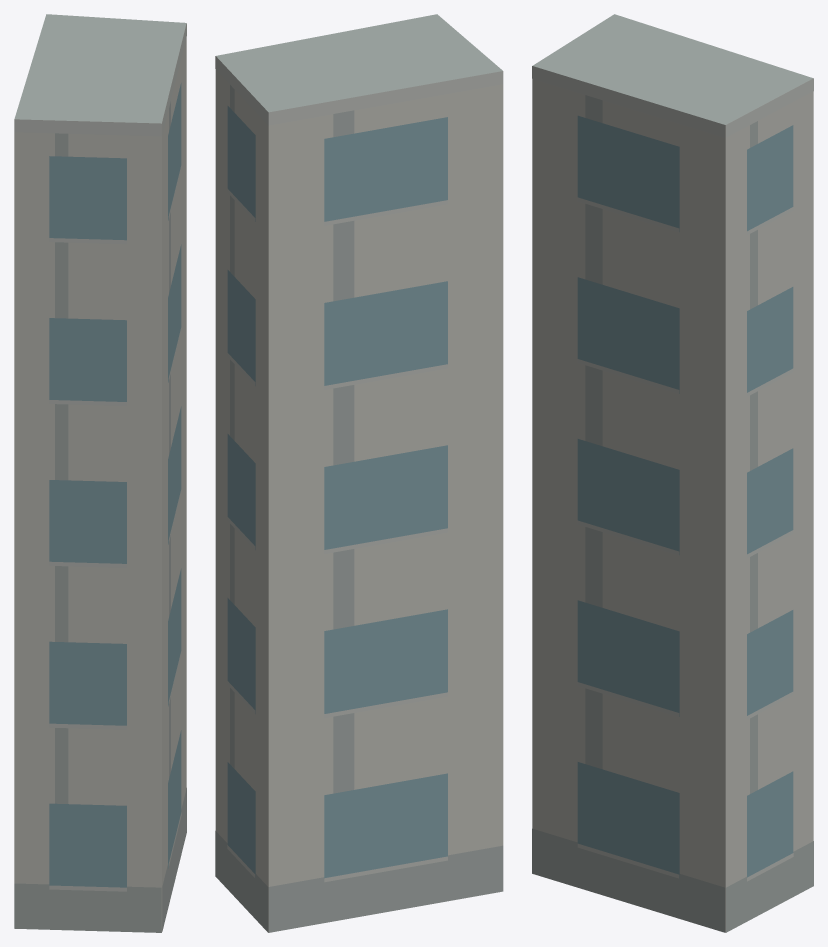
Rendered from survey-upis-32644130.glb.
The picture shows the model from 3 angles, left to right: view 1: azimuth 30°, elevation 25°; view 2: azimuth 150°, elevation 25°; view 3: azimuth 270°, elevation 25°; orthographic projection.
Visible parts, largest first — view 1: survey-upis-32644130.tmp; view 2: survey-upis-32644130.tmp; view 3: survey-upis-32644130.tmp.
Boxes of the visible parts, x1=… form: survey-upis-32644130.tmp: x1=14, y1=14, x2=186, y2=932; survey-upis-32644130.tmp: x1=215, y1=14, x2=503, y2=932; survey-upis-32644130.tmp: x1=532, y1=14, x2=813, y2=932.
Size of the model in its own units: 4.51 by 15.25 by 4.82.
